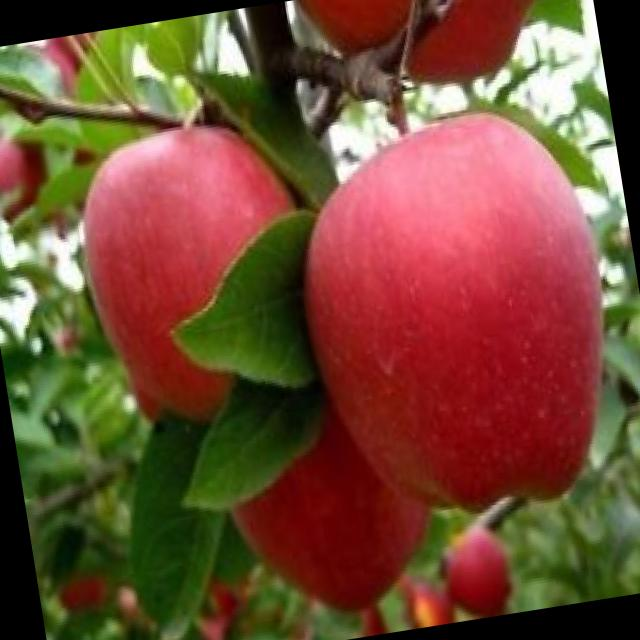apple: (280, 81, 640, 565), (180, 286, 462, 628), (66, 113, 329, 451)
